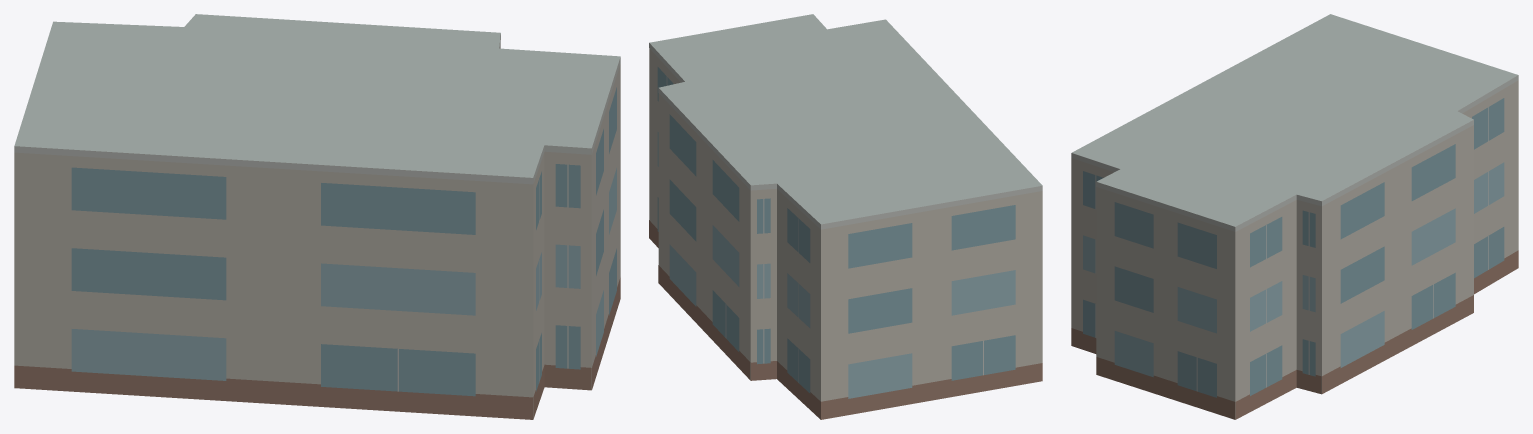
File: survey-upis-32525324.glb
3 views of the same model, side by side, from view 1: azimuth 30°, elevation 25°; view 2: azimuth 150°, elevation 25°; view 3: azimuth 270°, elevation 25° (orthographic). The views are drawn at different scales.
Parts seen in each view (by area): view 1: survey-upis-32525324.tmp; view 2: survey-upis-32525324.tmp; view 3: survey-upis-32525324.tmp.
Boxes of the visible parts, bbox=[...] form: survey-upis-32525324.tmp: bbox=[14, 14, 620, 419]; survey-upis-32525324.tmp: bbox=[649, 14, 1042, 419]; survey-upis-32525324.tmp: bbox=[1071, 14, 1518, 419].
Bounding box in the file's own units: 21.65 × 9.15 × 19.22.
